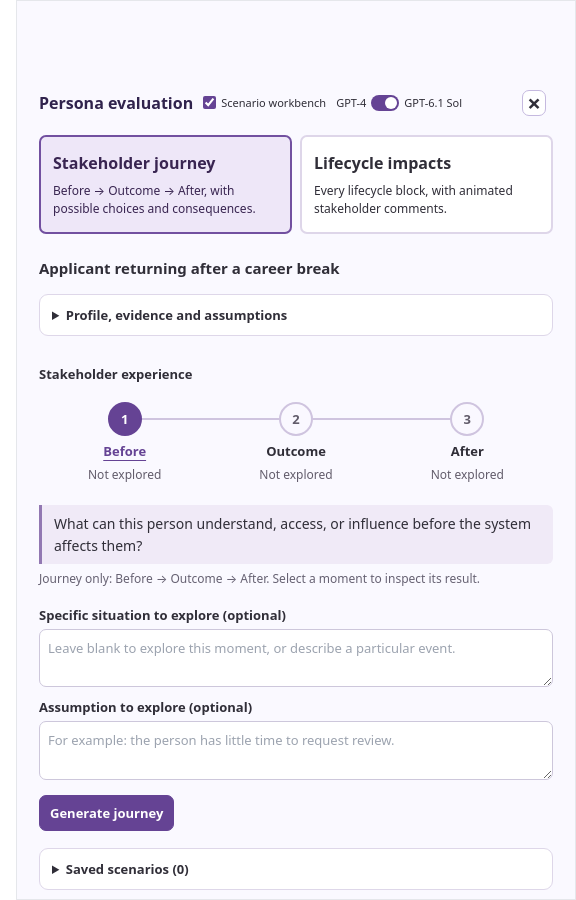
Test: shows stage comments without journey paths for an existing lifecycle trace
This screenshot has width=576, height=900.
Click the button "Lifecycle impacts Every".
click(426, 184)  # box [300,135,553,234]
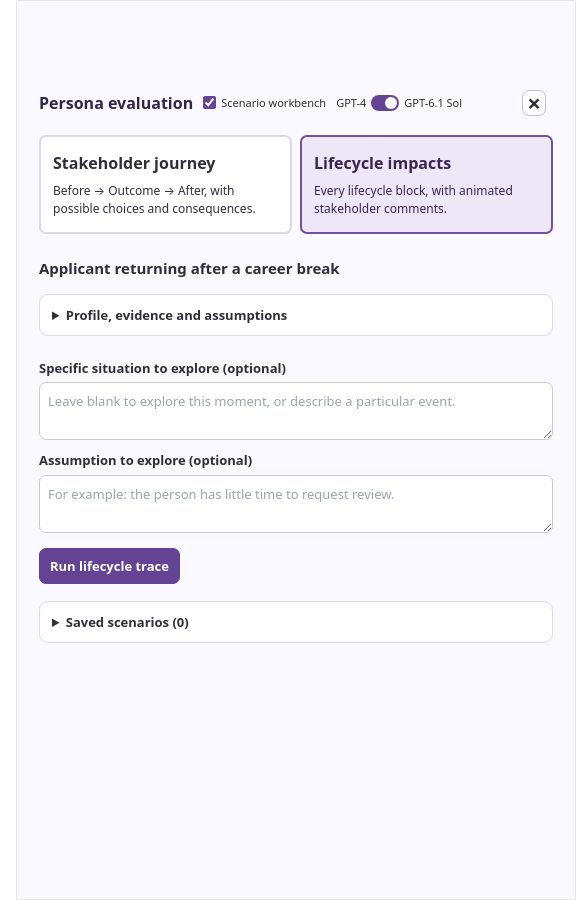
Click the button "Run lifecycle trace".
click(110, 566)  # box [39,548,180,584]
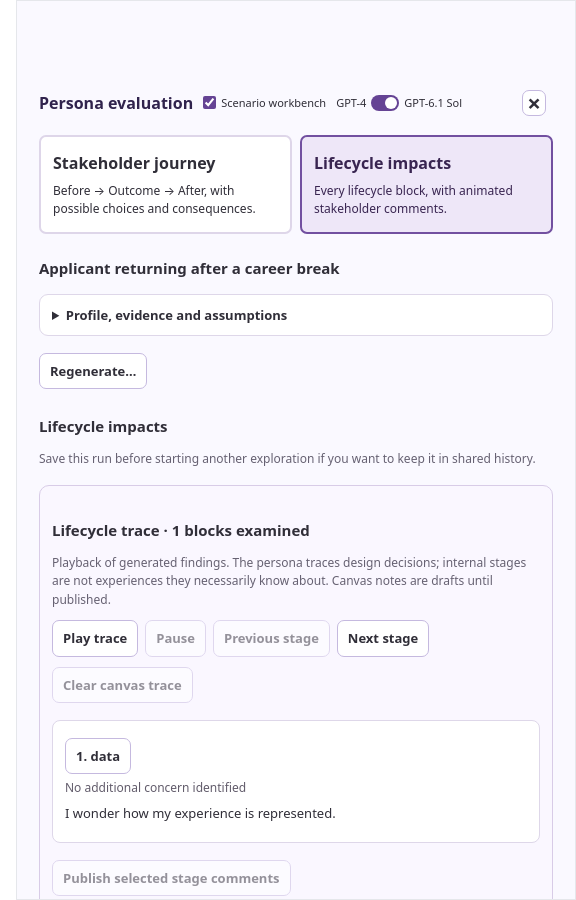
Check: the heading "Lifecycle impacts" is shown, box [39,416,168,436]
Check: the text "I wonder how my experience is represented." is shown, box [65,804,336,822]
Check: the button "Play trace" is enabled, box [52,620,138,657]
